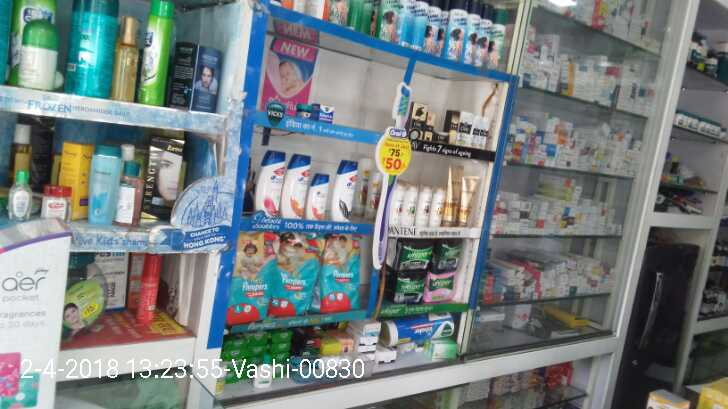vicks: (313, 104, 335, 120), (296, 103, 313, 120)
